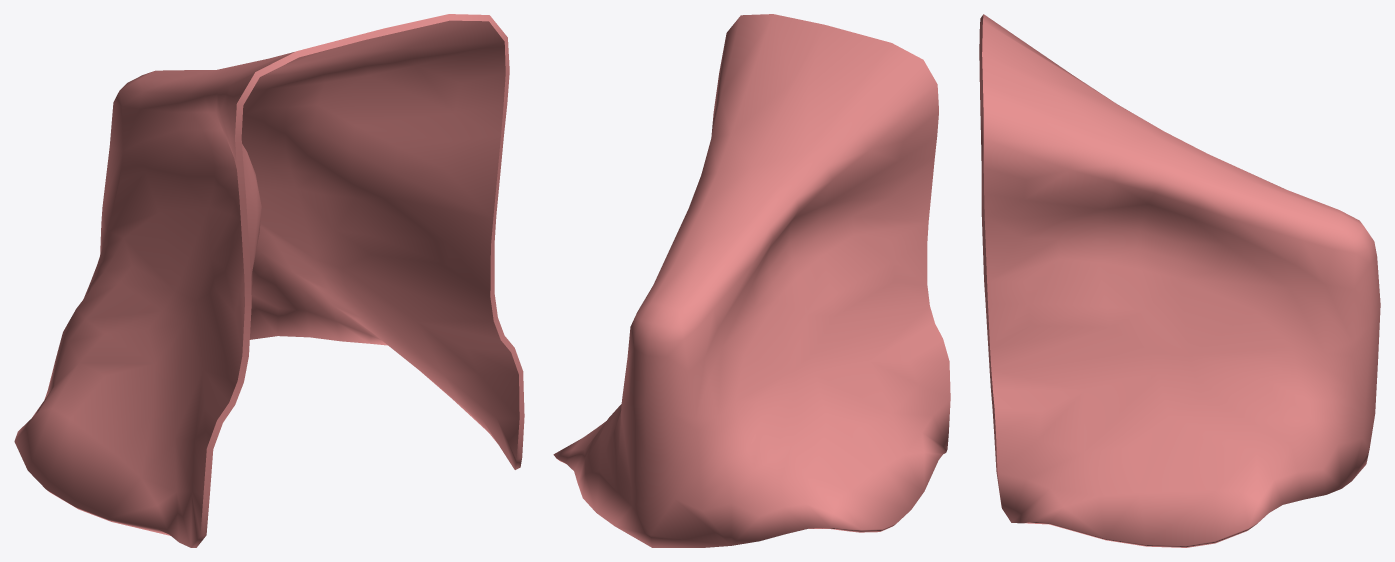
The model's file is visceras-nasopharynx.glb.
The picture shows the model from 3 angles, left to right: view 1: azimuth 30°, elevation 25°; view 2: azimuth 150°, elevation 25°; view 3: azimuth 270°, elevation 25°; orthographic projection. The views are drawn at different scales.
Parts seen in each view (by area): view 1: Nasopharynx; view 2: Nasopharynx; view 3: Nasopharynx.
Part boxes in pixels (x1,y1,x2,y2): Nasopharynx: (14, 14, 524, 547); Nasopharynx: (553, 14, 950, 547); Nasopharynx: (979, 14, 1380, 547).
Bounding box in the file's own units: 0.035 × 0.0411 × 0.0358.
